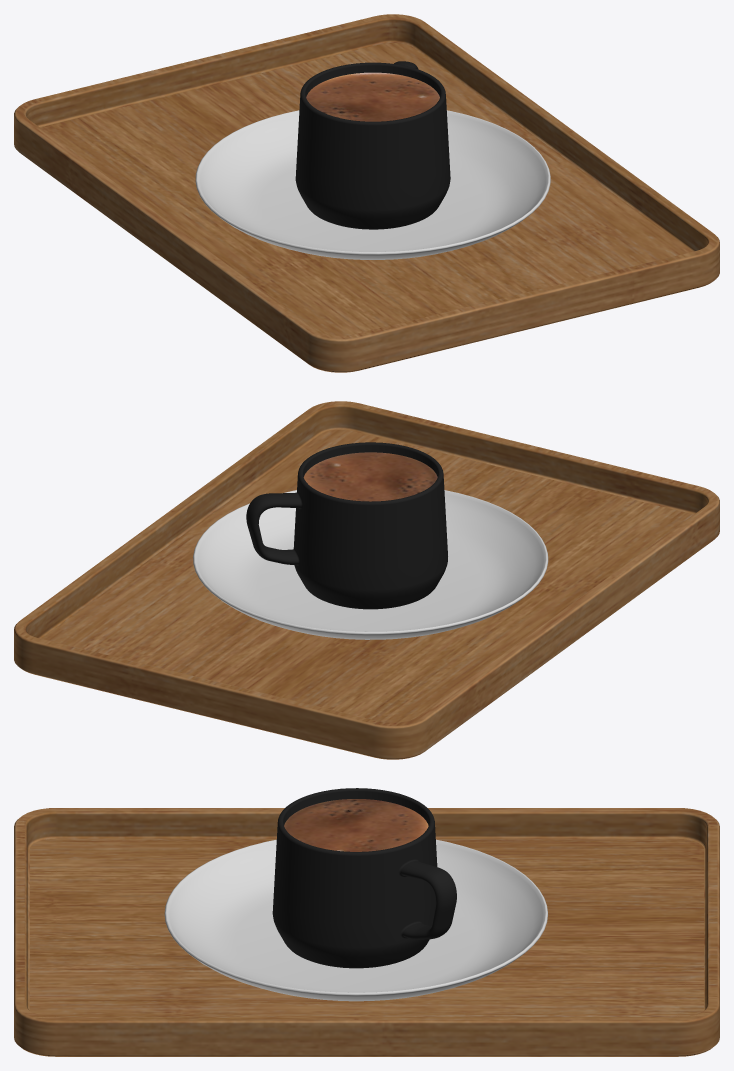
File: sicak_cikolata.glb
3 views of the same model, one above another, from view 1: azimuth 30°, elevation 25°; view 2: azimuth 150°, elevation 25°; view 3: azimuth 270°, elevation 25° (orthographic). The views are drawn at different scales.
Parts seen in each view (by area): view 1: table, plate, cup; view 2: table, plate, cup; view 3: table, plate, cup.
Part boxes in pixels (left/top/right/bottom): table: left=14, top=14, right=719, bottom=372; plate: left=195, top=110, right=550, bottom=259; cup: left=295, top=61, right=450, bottom=229; table: left=14, top=401, right=719, bottom=759; plate: left=193, top=490, right=548, bottom=639; cup: left=246, top=442, right=447, bottom=609; table: left=14, top=808, right=719, bottom=1056; plate: left=164, top=839, right=547, bottom=1001; cup: left=272, top=788, right=456, bottom=968.
Bounding box in the file's own units: 0.3406 × 0.0969 × 0.4735.
1 material, 1 textured.
